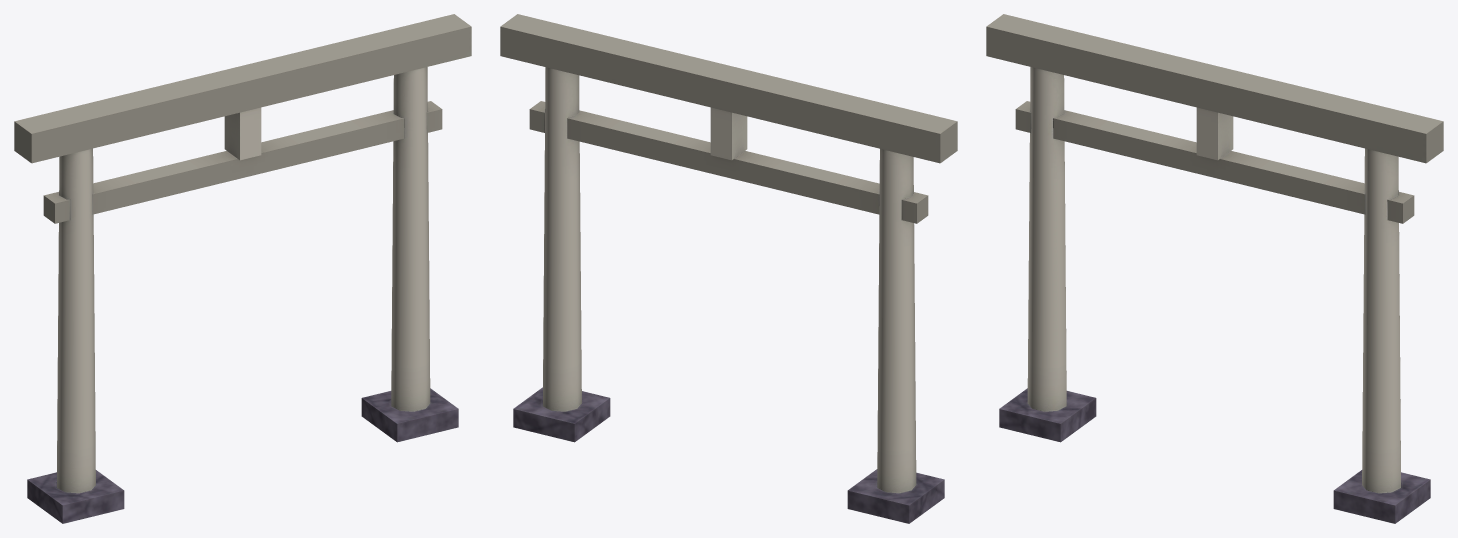
The model's file is k_v_ne_torii.glb.
The picture shows the model from 3 angles, left to right: view 1: azimuth 30°, elevation 25°; view 2: azimuth 150°, elevation 25°; view 3: azimuth 330°, elevation 25°; orthographic projection.
Visible parts, largest first — view 1: k_v_ne_torii; view 2: k_v_ne_torii; view 3: k_v_ne_torii.
Boxes of the visible parts, x1,y1,x2,y2 form: k_v_ne_torii: (14,14,471,523); k_v_ne_torii: (500,14,957,523); k_v_ne_torii: (986,14,1443,523).
Size of the model in its own units: 5 by 4.22 by 0.7.
Materials: 1 (1 with a texture image).
